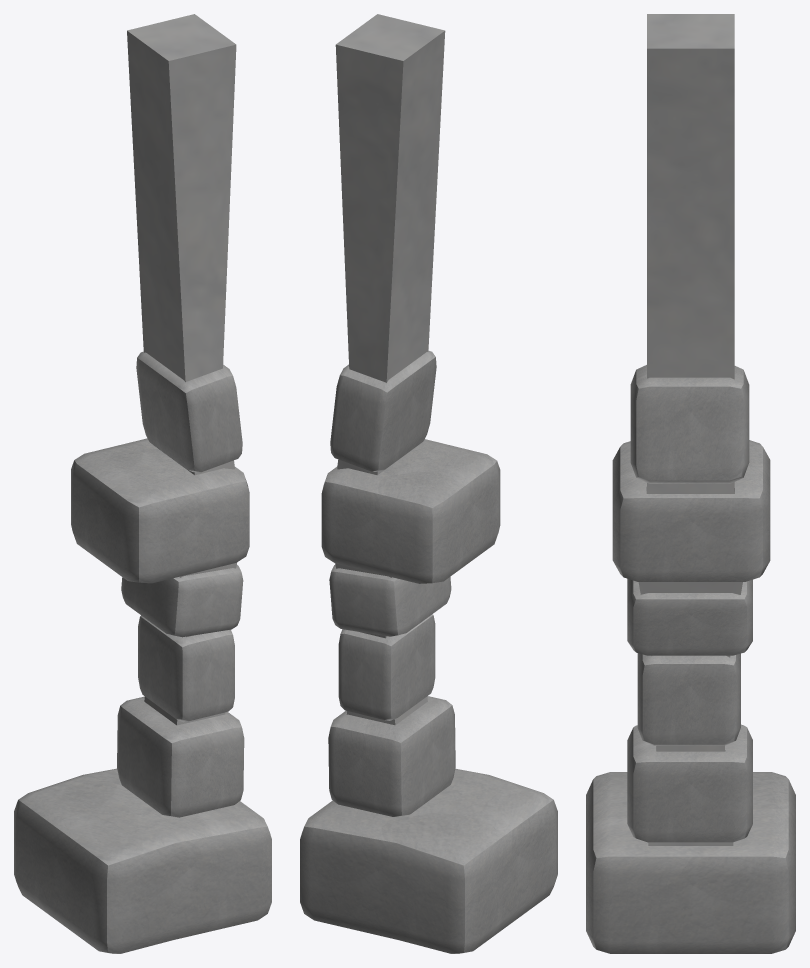
Rendered from door_frame_begin.obj.
3 views of the same model, side by side, from view 1: azimuth 30°, elevation 25°; view 2: azimuth 150°, elevation 25°; view 3: azimuth 270°, elevation 25° (orthographic). The views are drawn at different scales.
Visible parts, largest first — view 1: stone7; view 2: stone7; view 3: stone7.
Boxes of the visible parts, <box> form: stone7: <box>14,14,271,953</box>; stone7: <box>300,14,557,953</box>; stone7: <box>586,14,795,953</box>.
Size of the model in its own units: 0.2333 by 1.09 by 0.2282.
Materials: 1 (1 with a texture image).
